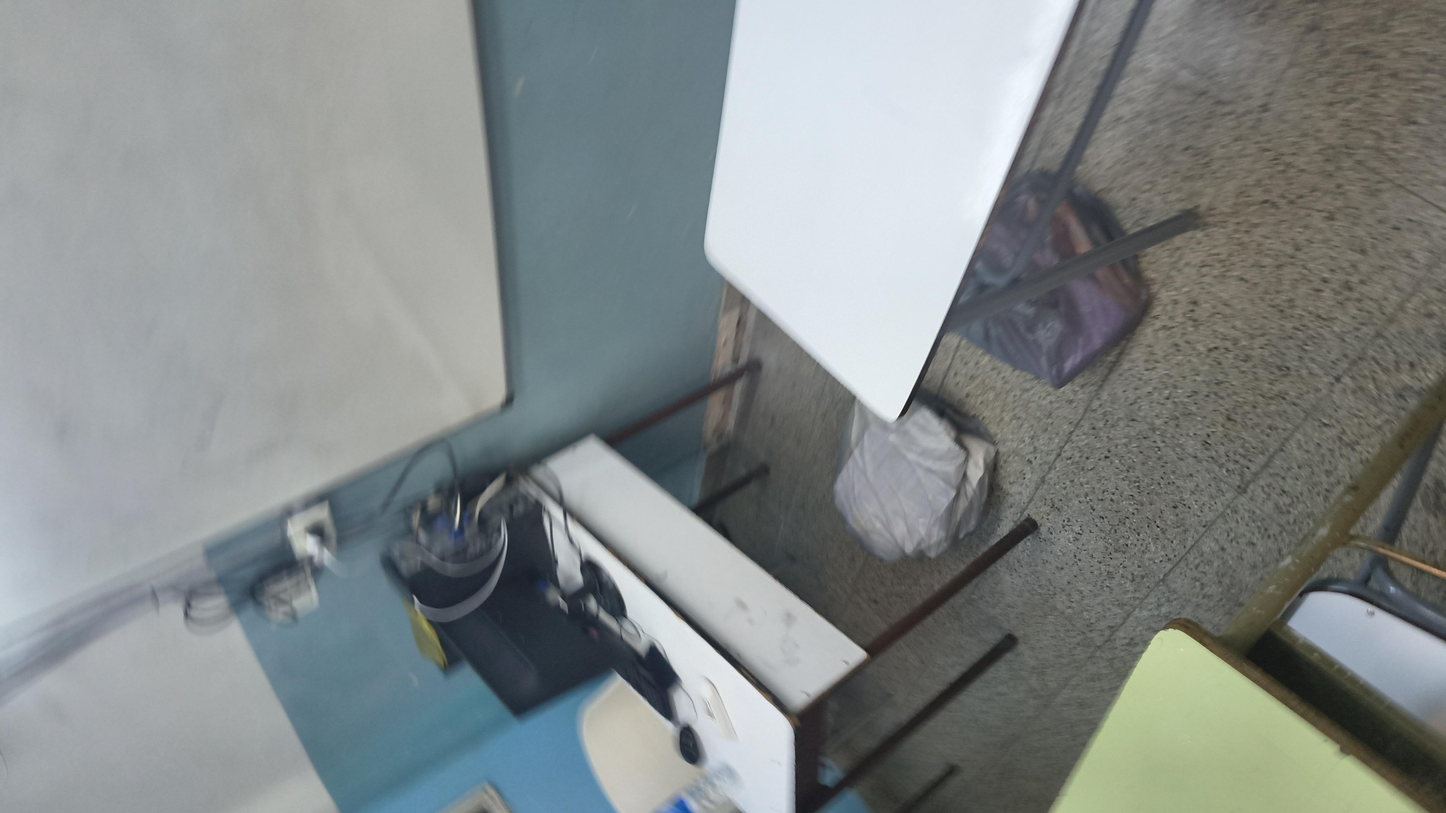Garbage: (715, 502, 1161, 661), (408, 445, 791, 590)
